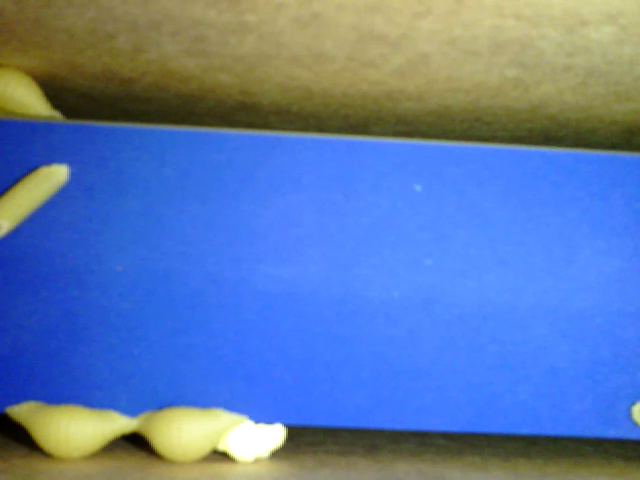penne: (3, 164, 71, 240)
shell: (6, 399, 138, 460), (135, 410, 247, 464), (1, 67, 66, 125)
